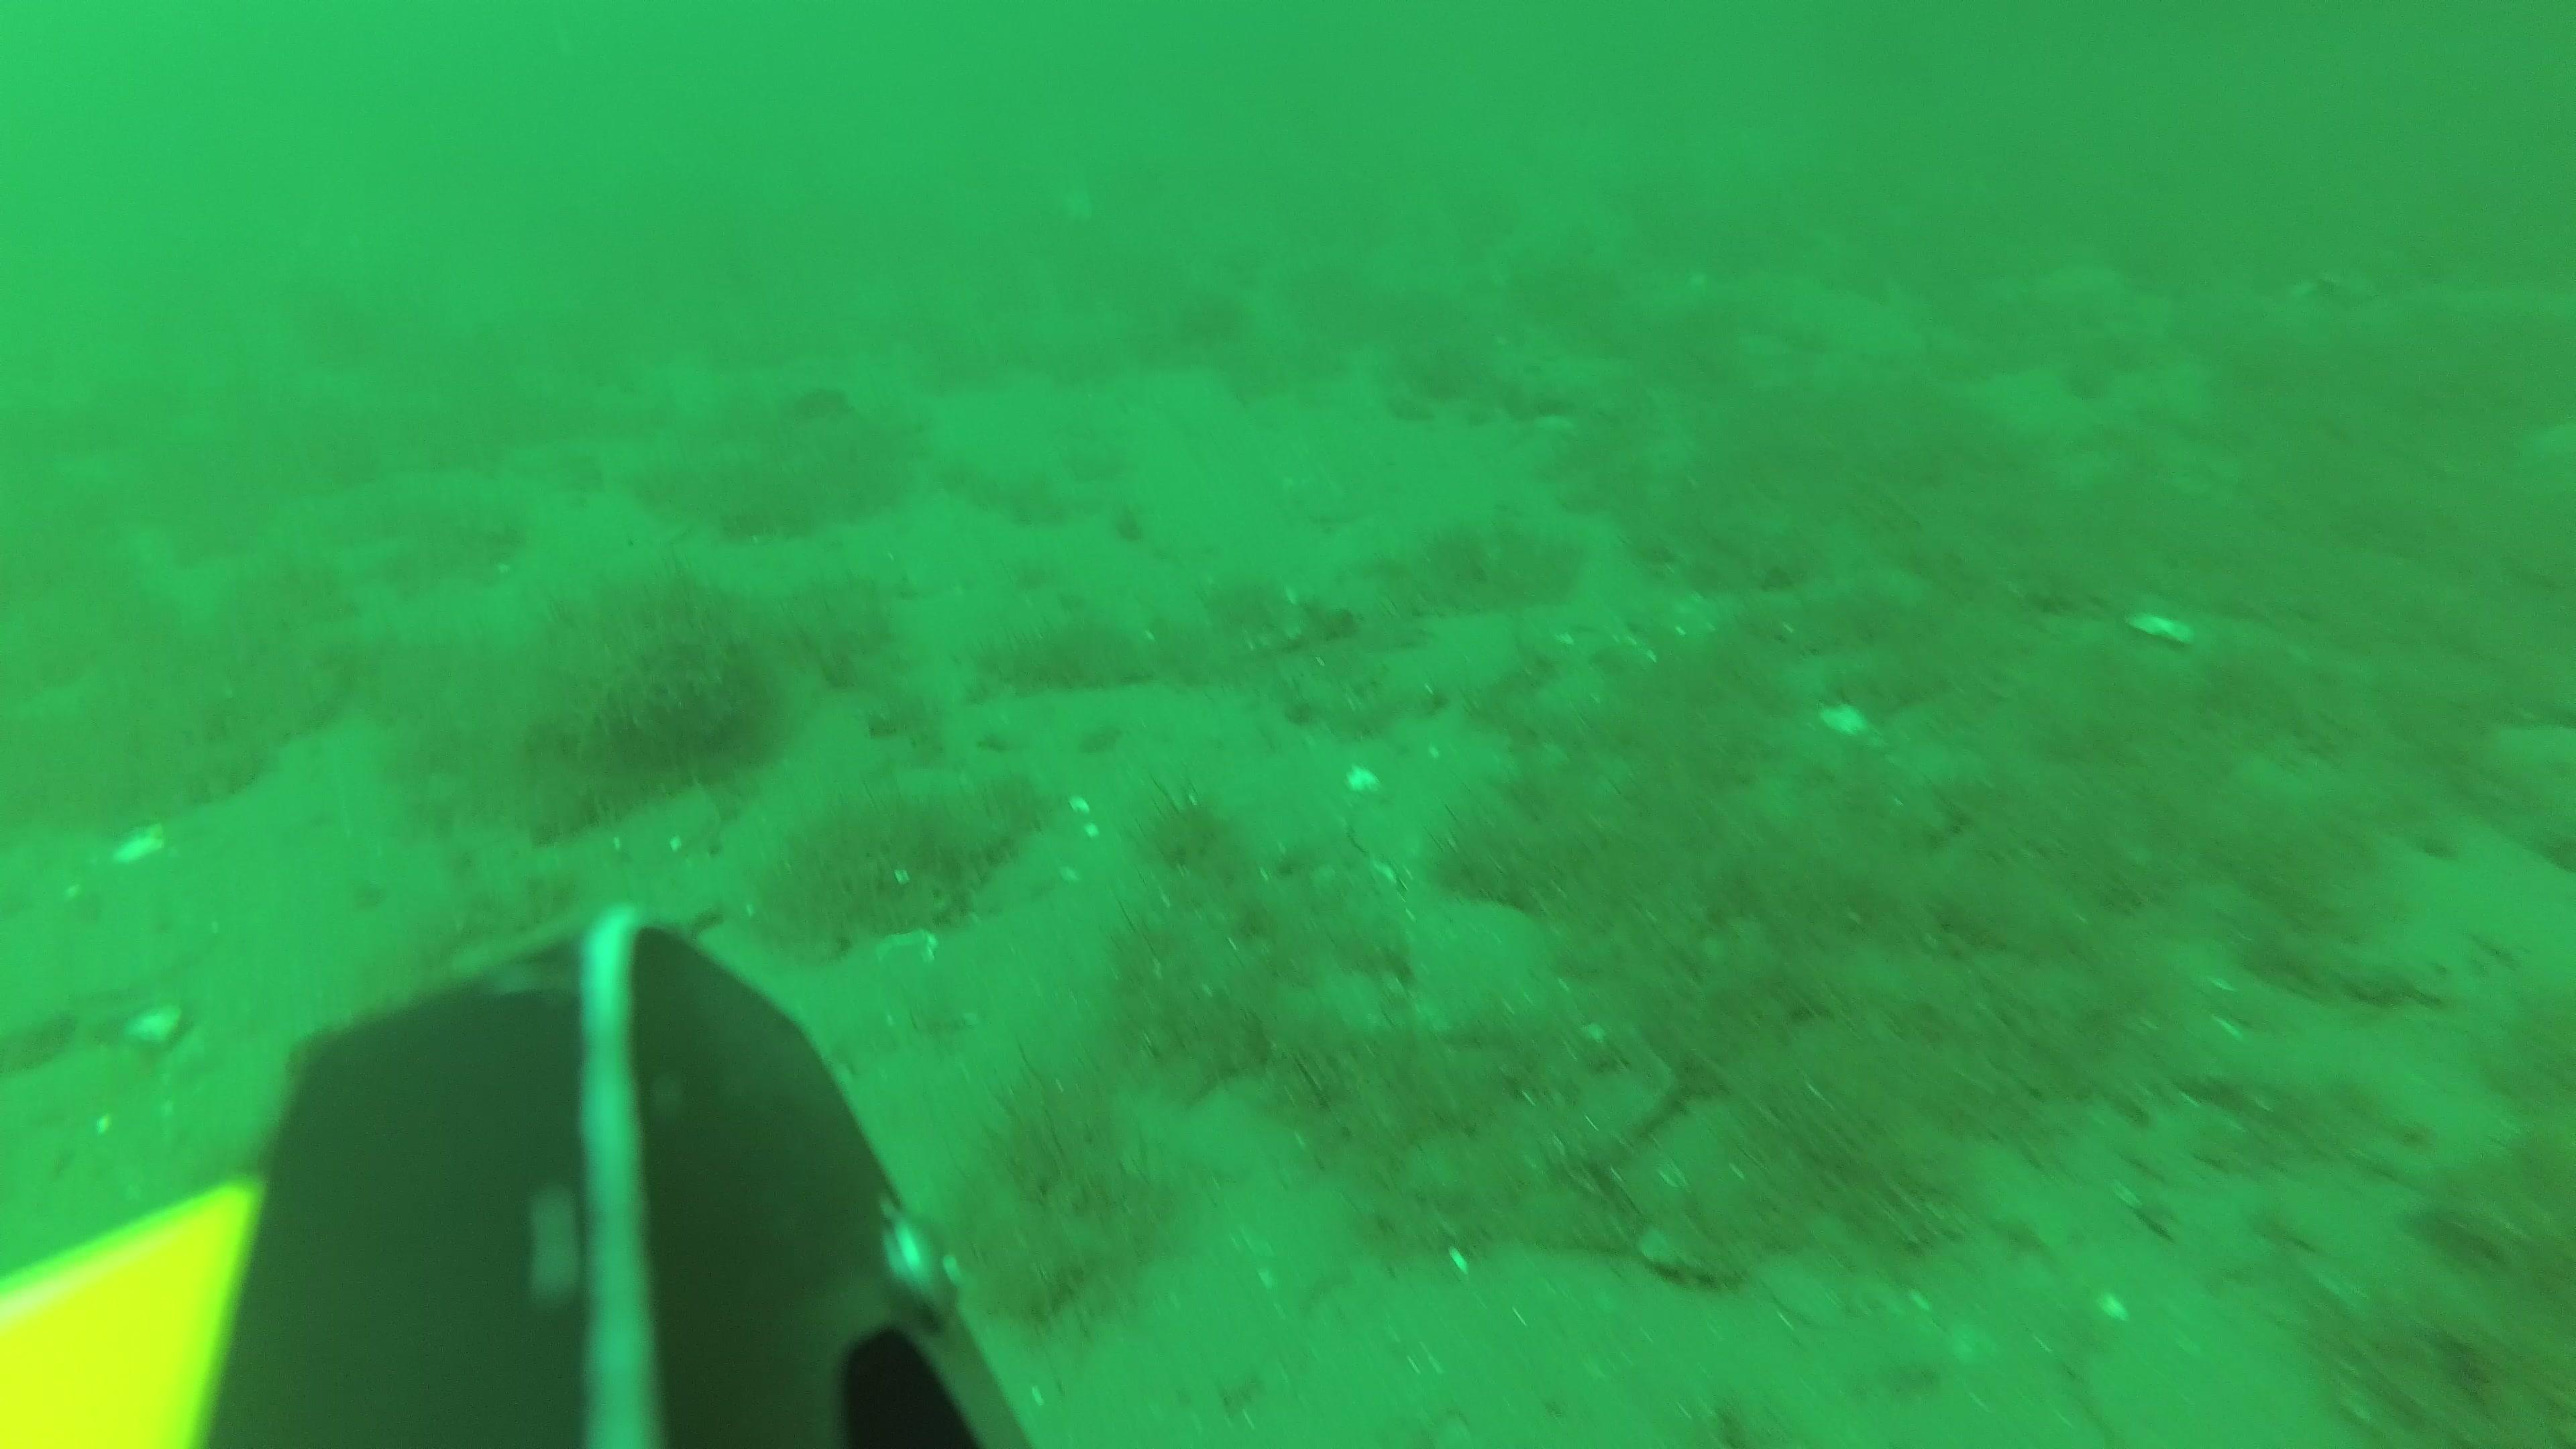scallop: (612, 791, 717, 869), (879, 927, 941, 984)
